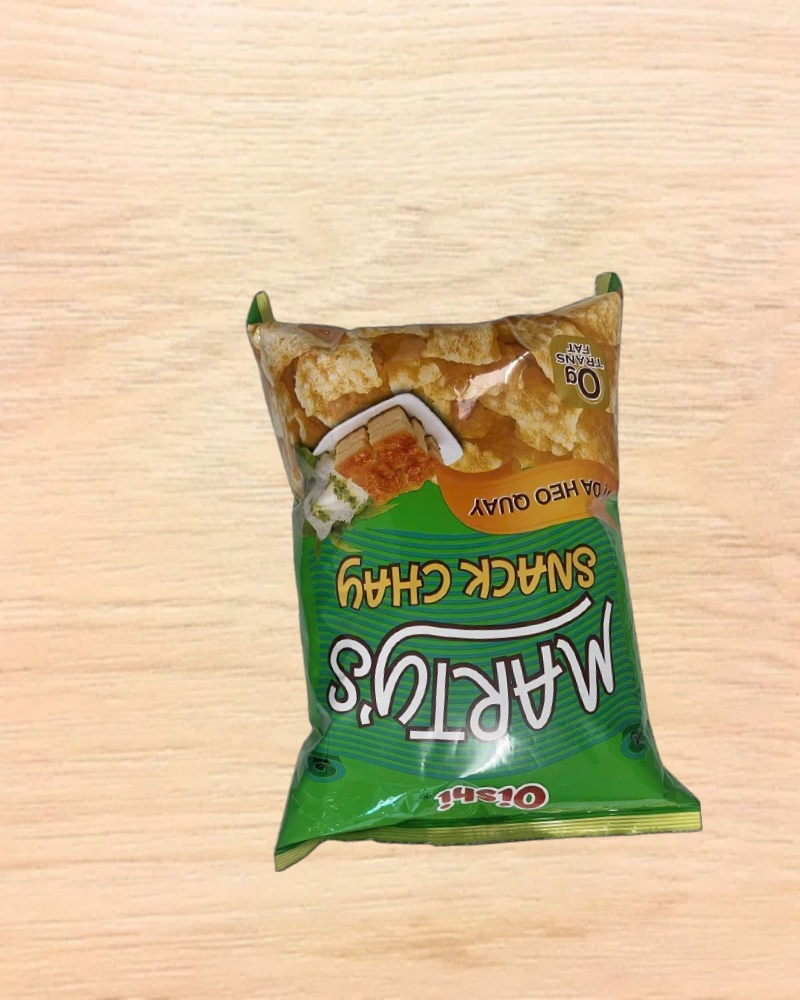Snack chay: (246, 259, 702, 871)
